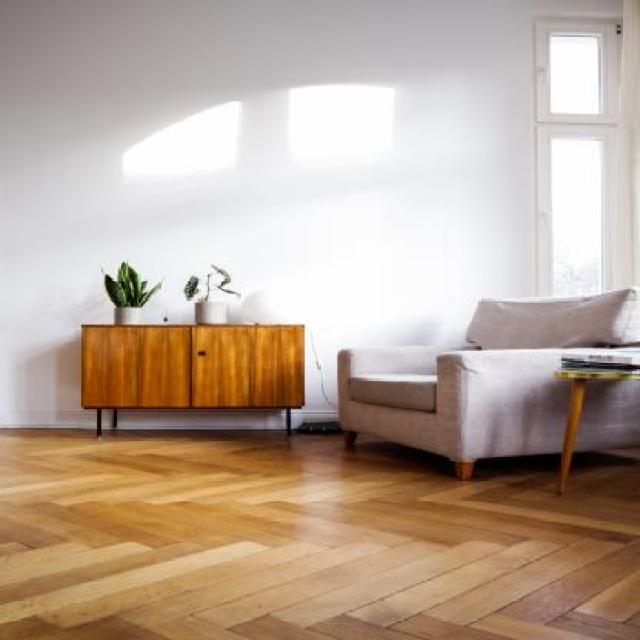Floor: (0, 428, 640, 640)
